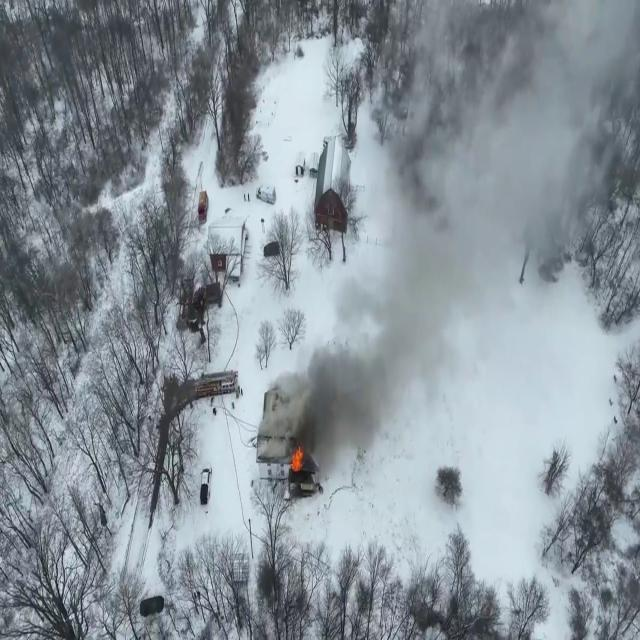Fire: (288, 435, 306, 481)
Smoke: (285, 2, 640, 498)
